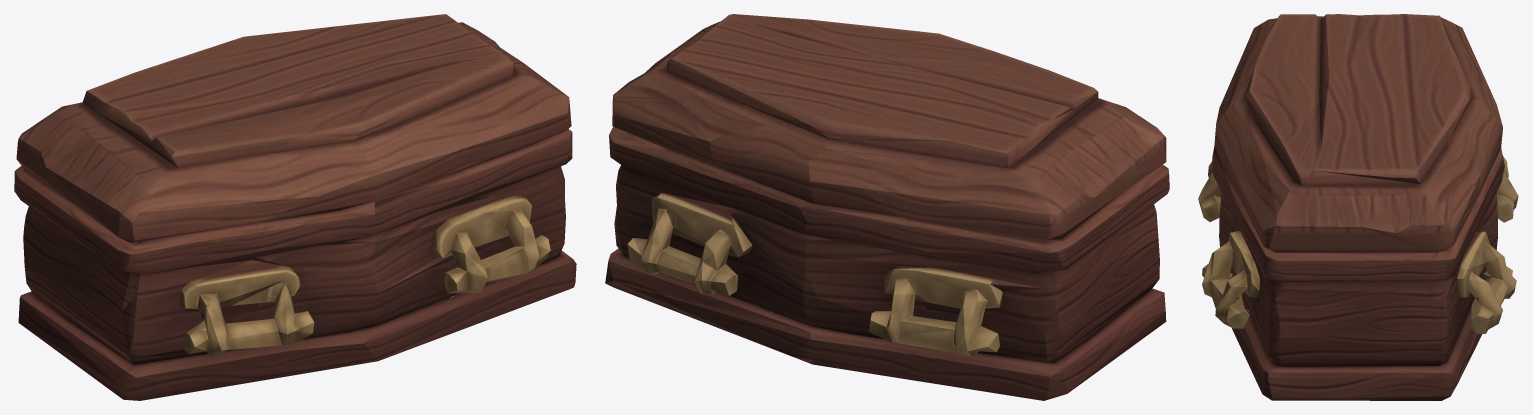
The model's file is coffin.glb.
The picture shows the model from 3 angles, left to right: view 1: azimuth 30°, elevation 25°; view 2: azimuth 150°, elevation 25°; view 3: azimuth 270°, elevation 25°; orthographic projection. The views are drawn at different scales.
Bounding box in the file's own units: 1.9 × 0.9055 × 1.23.
Materials: 1 (1 with a texture image).
